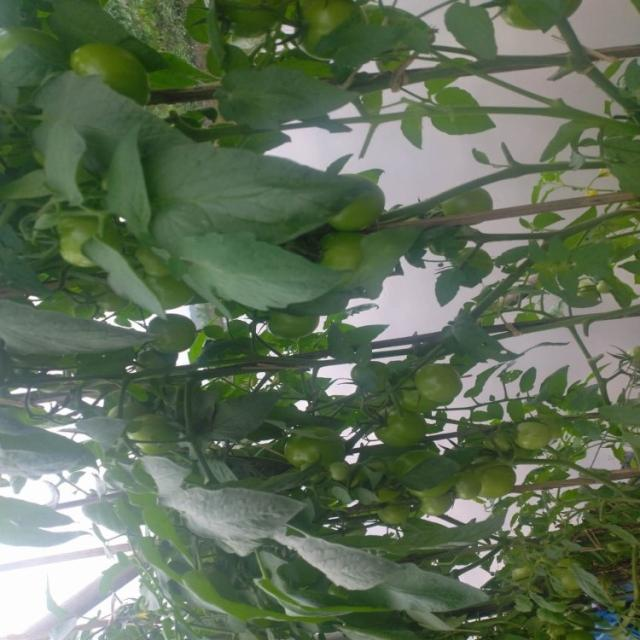tomato: (285, 1, 379, 58), (326, 174, 391, 247), (404, 449, 466, 513), (119, 411, 193, 460), (308, 222, 375, 273), (68, 44, 135, 93), (490, 1, 585, 35), (50, 225, 112, 267), (361, 480, 409, 530), (145, 316, 203, 357), (419, 358, 465, 408), (382, 406, 433, 446), (467, 456, 515, 497), (442, 183, 497, 218), (283, 430, 327, 473), (264, 311, 318, 346), (541, 555, 592, 590), (513, 416, 553, 446), (508, 556, 544, 585), (460, 241, 492, 273)
